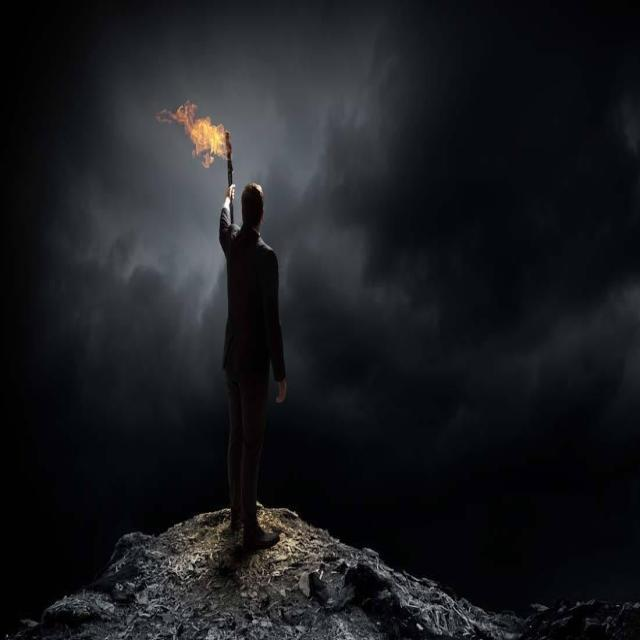Fire: (154, 99, 230, 168)
